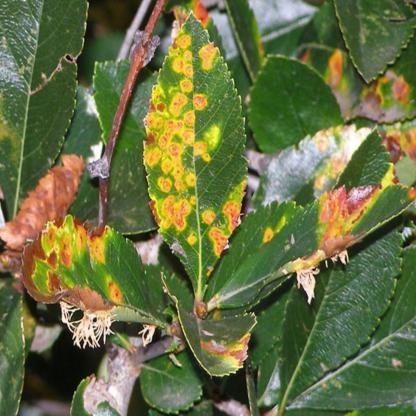apple rust leaf: (202, 171, 415, 322), (142, 8, 251, 296), (18, 213, 161, 342)
